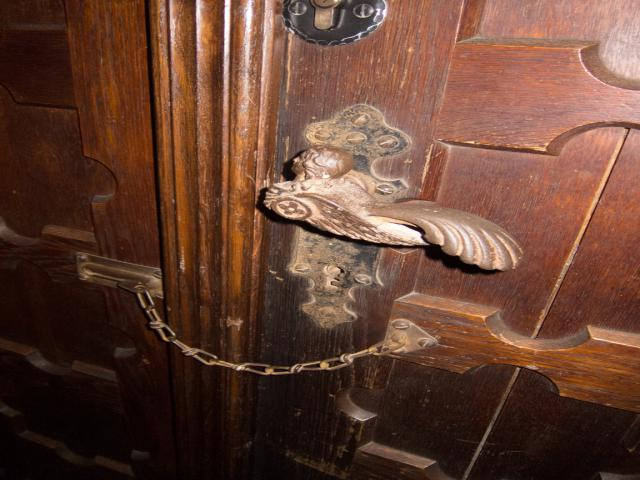Door-handle: (264, 144, 522, 272)
